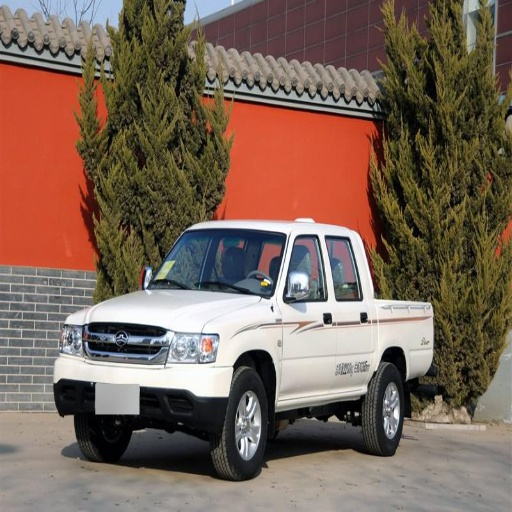front_bumper: (57, 322, 232, 439)
front_glass: (148, 229, 286, 297)
front_left_door: (281, 235, 346, 398)
trunk: (356, 303, 433, 381)
